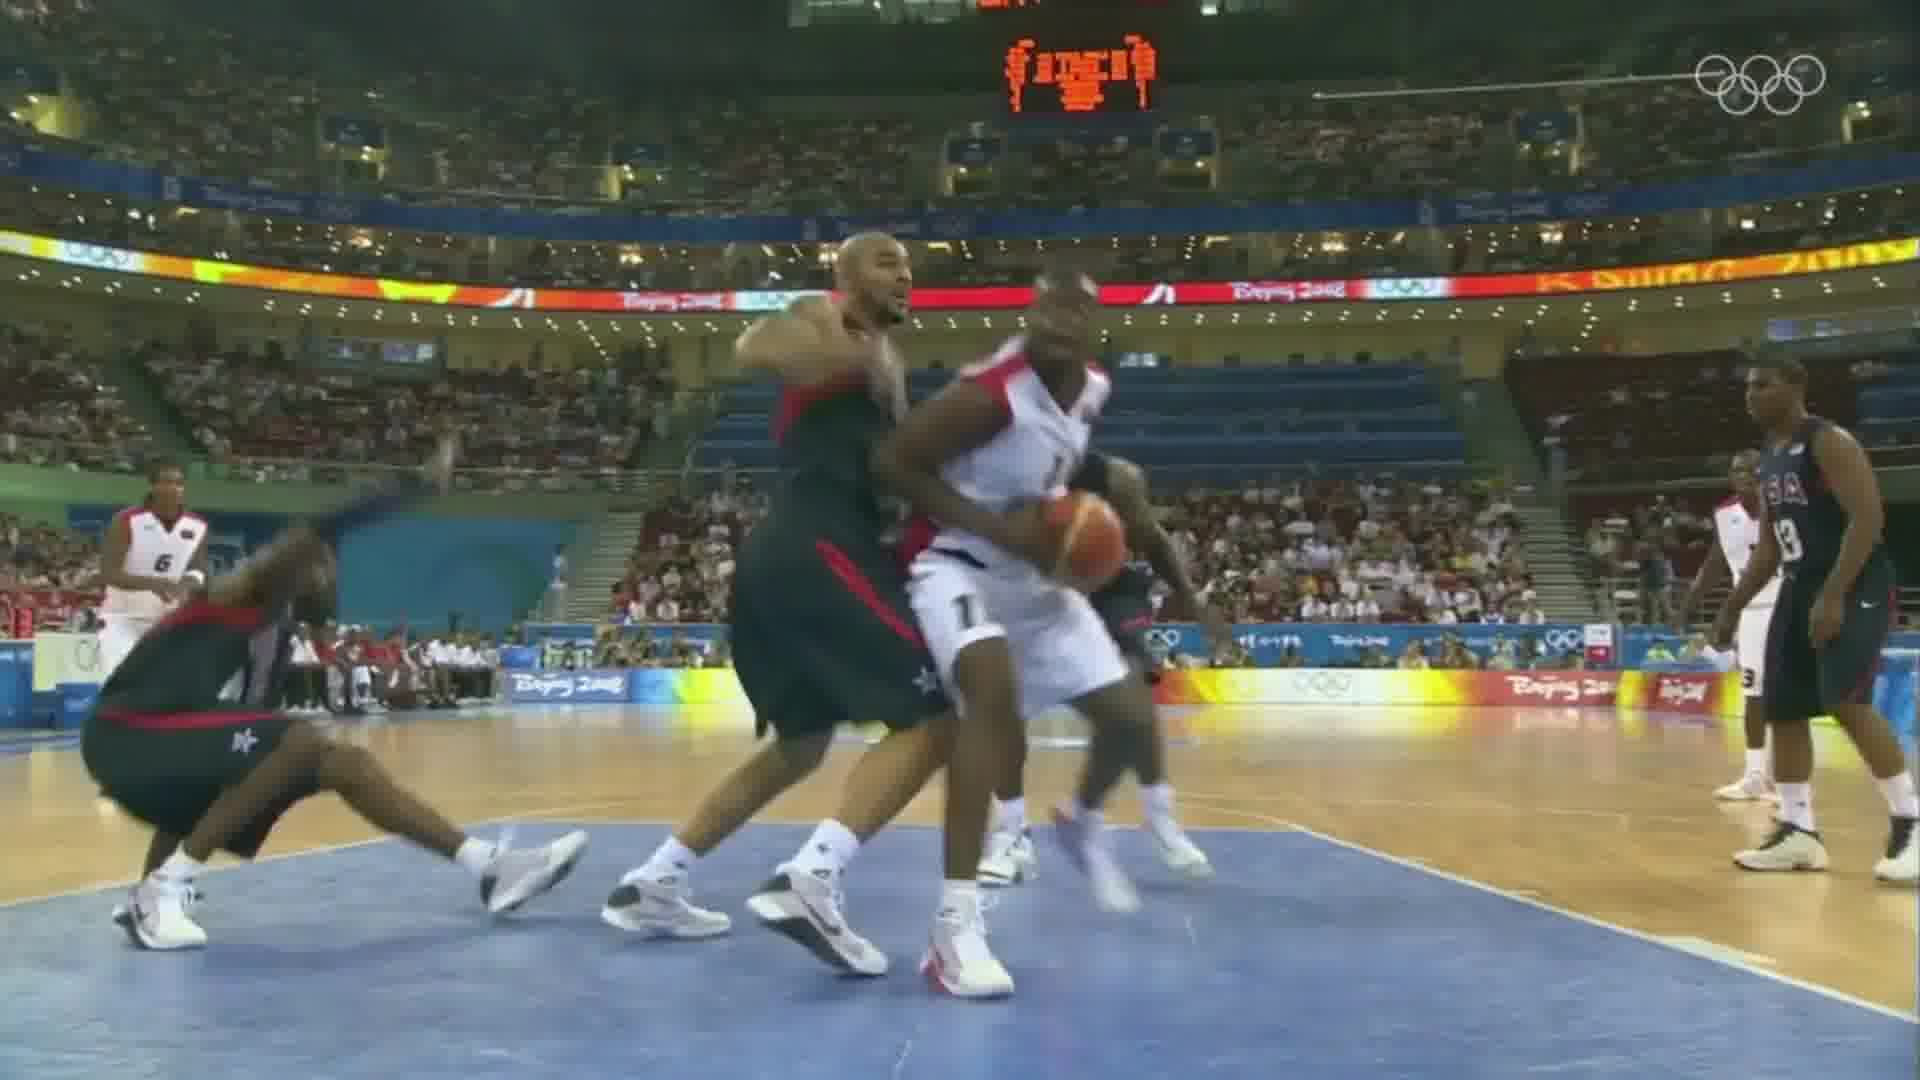ball: (1021, 479, 1133, 597)
